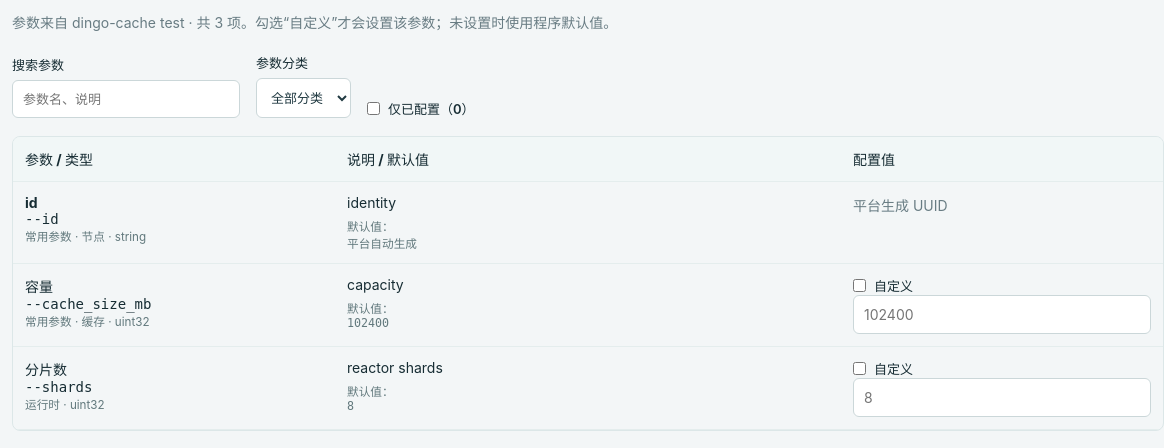
Test case: searches parameter descriptions, shows defaults, and resets explicit values
Check: the field named "参数 --shards" is disabled, box x1=853 y1=378 x2=1151 y2=417
Check: the text "平台生成 UUID" is shown, box x1=853 y1=197 x2=948 y2=214
Click the checkbox named "自定义 --shards". click: (860,368)
box: x1=853 y1=362 x2=866 y2=375
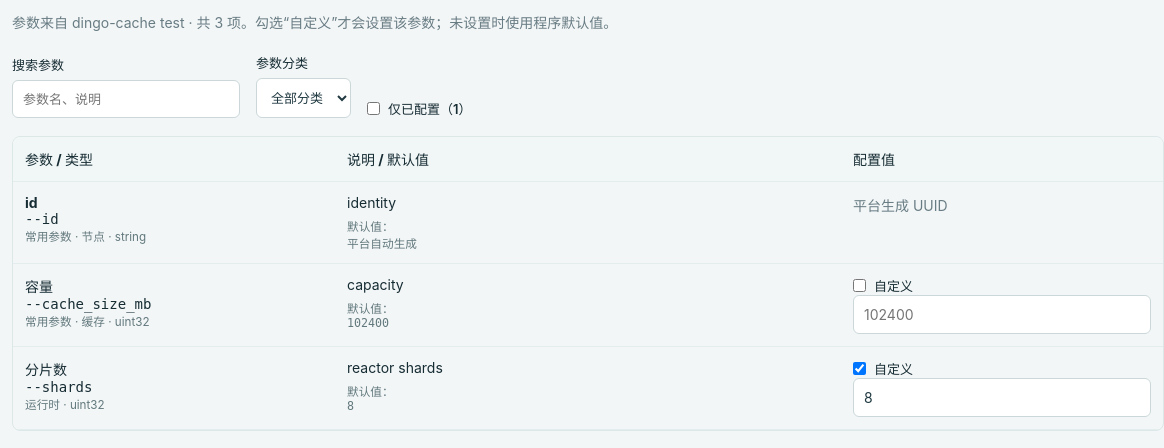
Check: the field named "参数 --shards" holds "8"
Type "16" into the field named "参数 --shards". click: (1002,397)
box: x1=853 y1=378 x2=1151 y2=417
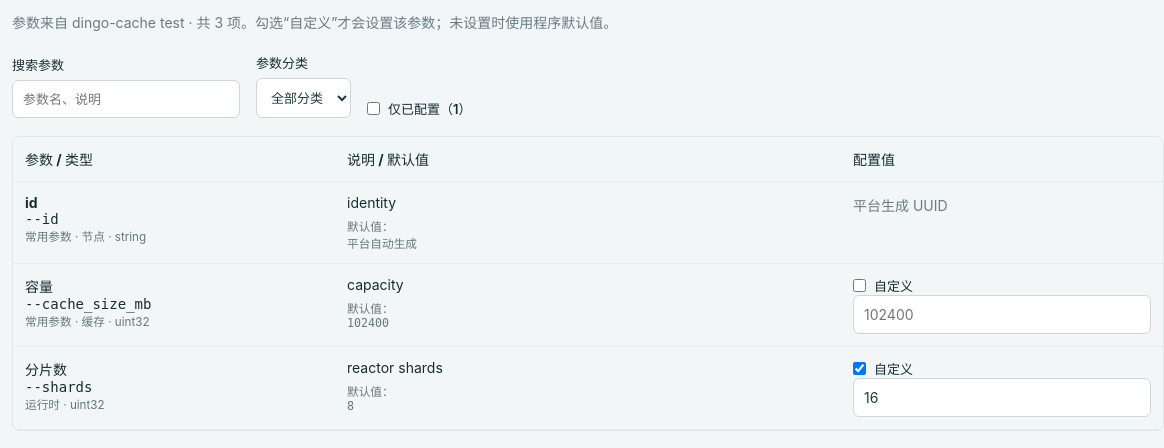
Type "reactor" into the search field labelled "搜索参数". click: (126,99)
box: x1=12 y1=80 x2=240 y2=118
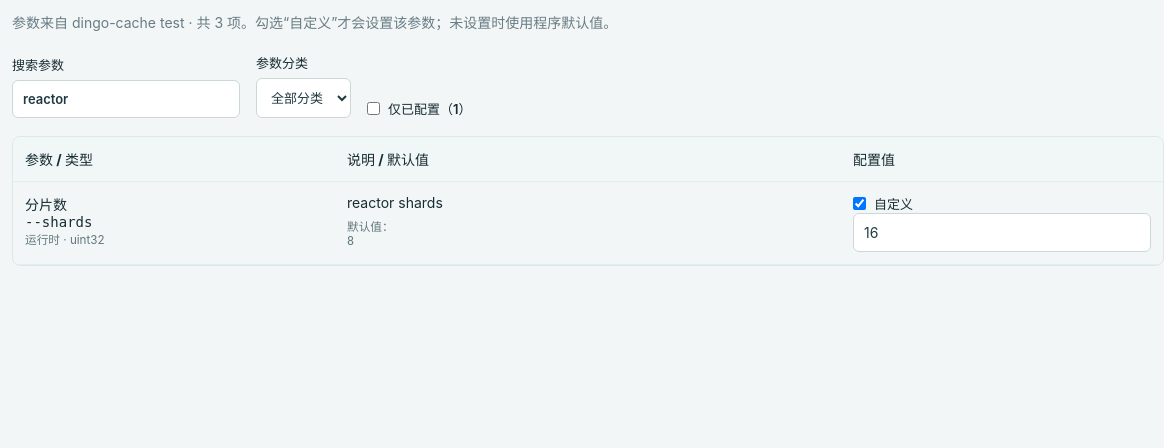
Click the checkbox named "自定义 --shards". click: (860,203)
box: x1=853 y1=197 x2=866 y2=210
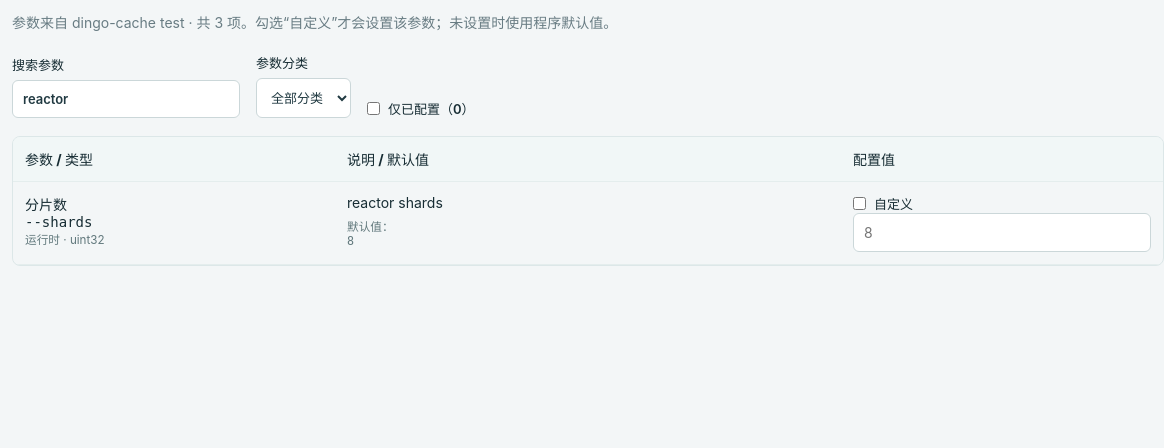
Check: the field named "参数 --shards" is disabled, box x1=853 y1=213 x2=1151 y2=252
